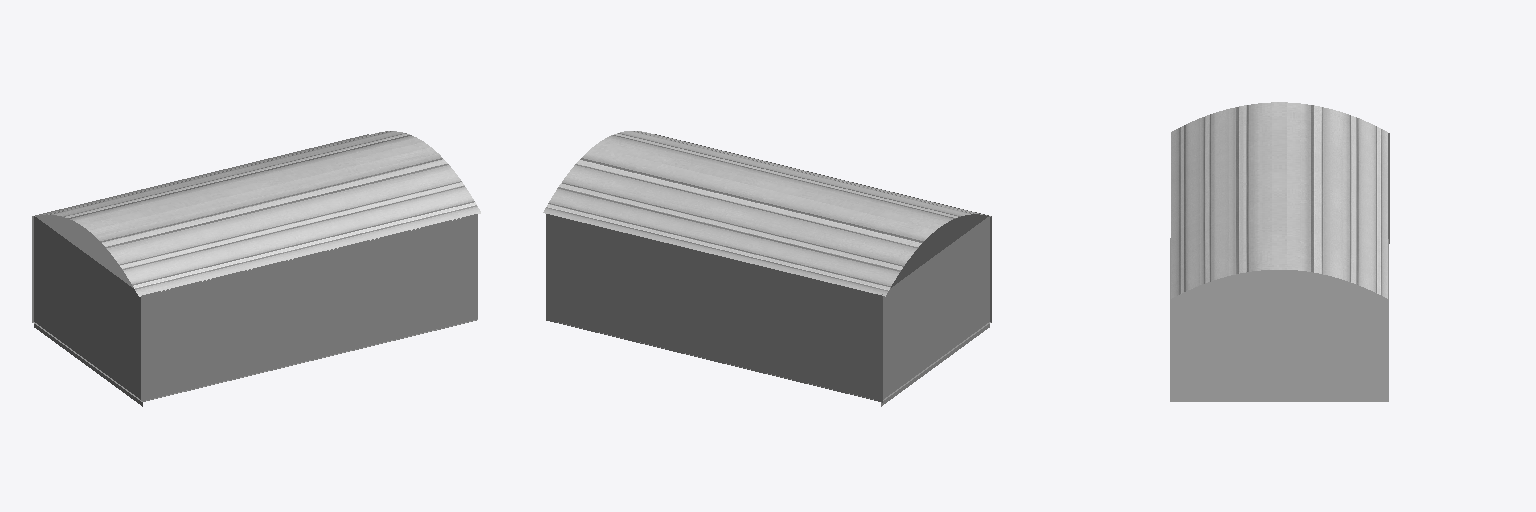
3 renders of one model, left to right at view 1: azimuth 30°, elevation 25°; view 2: azimuth 150°, elevation 25°; view 3: azimuth 270°, elevation 25°, orthographic.
Visible parts, largest first — view 1: SurfCurve_CUSurfCurve.002, Plane.001_Plane.002, Plane.003_Plane.004, Plane.002_Plane.003; view 2: SurfCurve_CUSurfCurve.002, Plane.002_Plane.003, Plane.003_Plane.004, Plane.001_Plane.002; view 3: SurfCurve_CUSurfCurve.002, Plane.
Boxes of the visible parts, <box> form: SurfCurve_CUSurfCurve.002: <box>35,131,480,296</box>; Plane.001_Plane.002: <box>141,214,477,401</box>; Plane.003_Plane.004: <box>34,216,142,406</box>; Plane.002_Plane.003: <box>32,134,368,322</box>; SurfCurve_CUSurfCurve.002: <box>543,131,990,296</box>; Plane.002_Plane.003: <box>546,214,882,402</box>; Plane.003_Plane.004: <box>881,216,989,406</box>; Plane.001_Plane.002: <box>655,134,991,322</box>; SurfCurve_CUSurfCurve.002: <box>1171,102,1387,298</box>; Plane: <box>1170,238,1388,401</box>.
Size of the model in its own units: 4.94 by 1.93 by 2.73.
Materials: 2 (1 with a texture image).